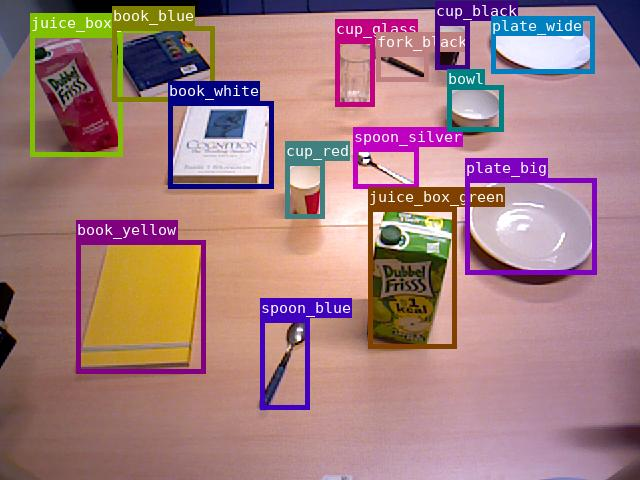book_blue: (112, 26, 214, 101)
book_white: (168, 101, 273, 188)
book_yellow: (76, 240, 205, 373)
bowl: (447, 85, 503, 131)
cup_black: (435, 21, 469, 69)
cup_glass: (335, 39, 374, 106)
cup_red: (285, 161, 324, 218)
fork_black: (376, 52, 428, 81)
juice_box_green: (368, 207, 456, 348)
juice_box_pink: (30, 33, 122, 156)
plate_big: (465, 178, 596, 274)
plate_wide: (491, 16, 594, 73)
spoon_blue: (260, 318, 309, 409)
spoon_silver: (353, 147, 418, 188)
